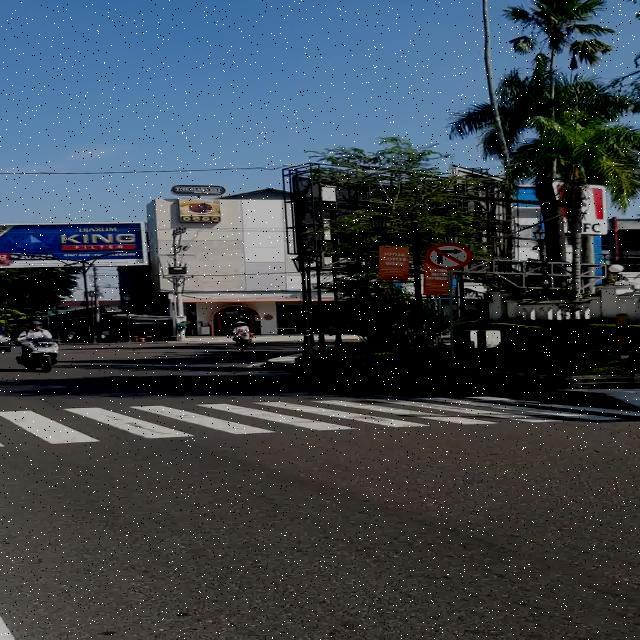Dilarang Belok Kanan: (425, 243, 472, 270)
